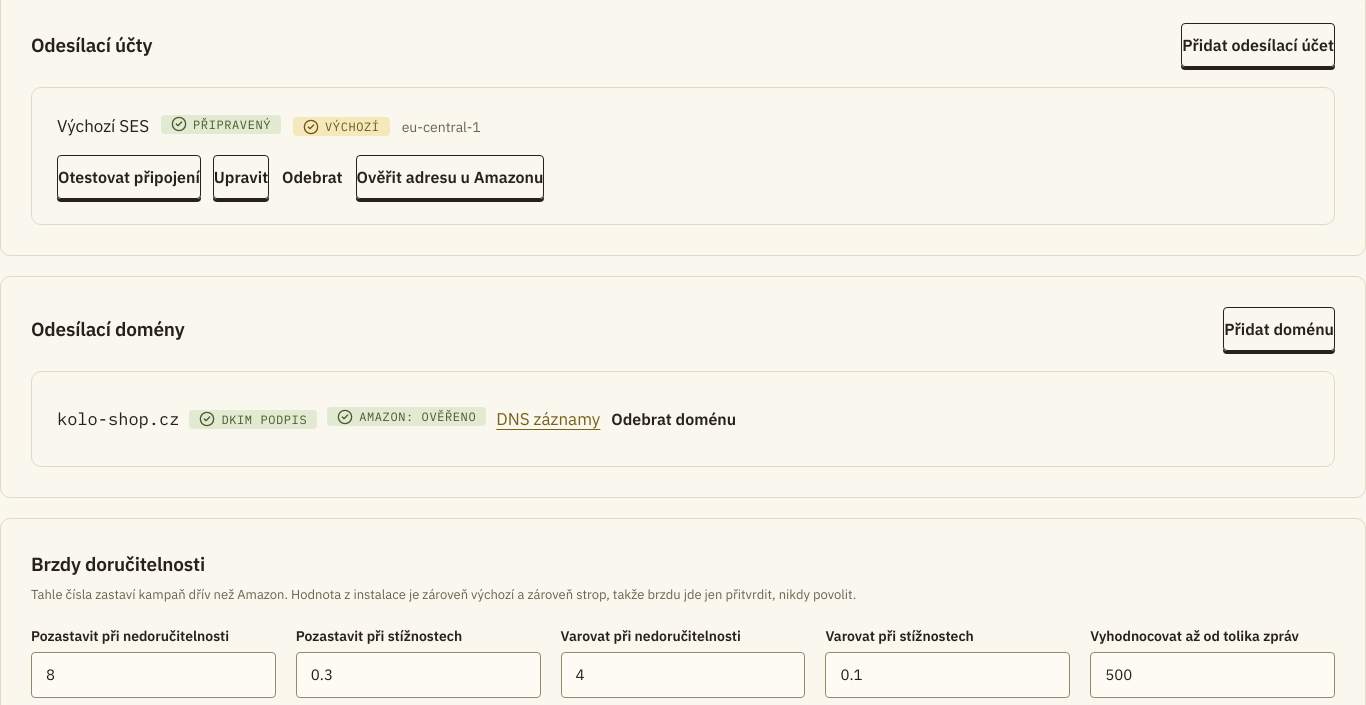
Test case: odebrání odesílací domény ze seznamu › úspěch zavře dialog a obnoví seznam, aby z něj doména zmizela
Click the button with test id "delete-domain-dom-1" at (674, 419), box [610,397,737,441]
(page scrolled)
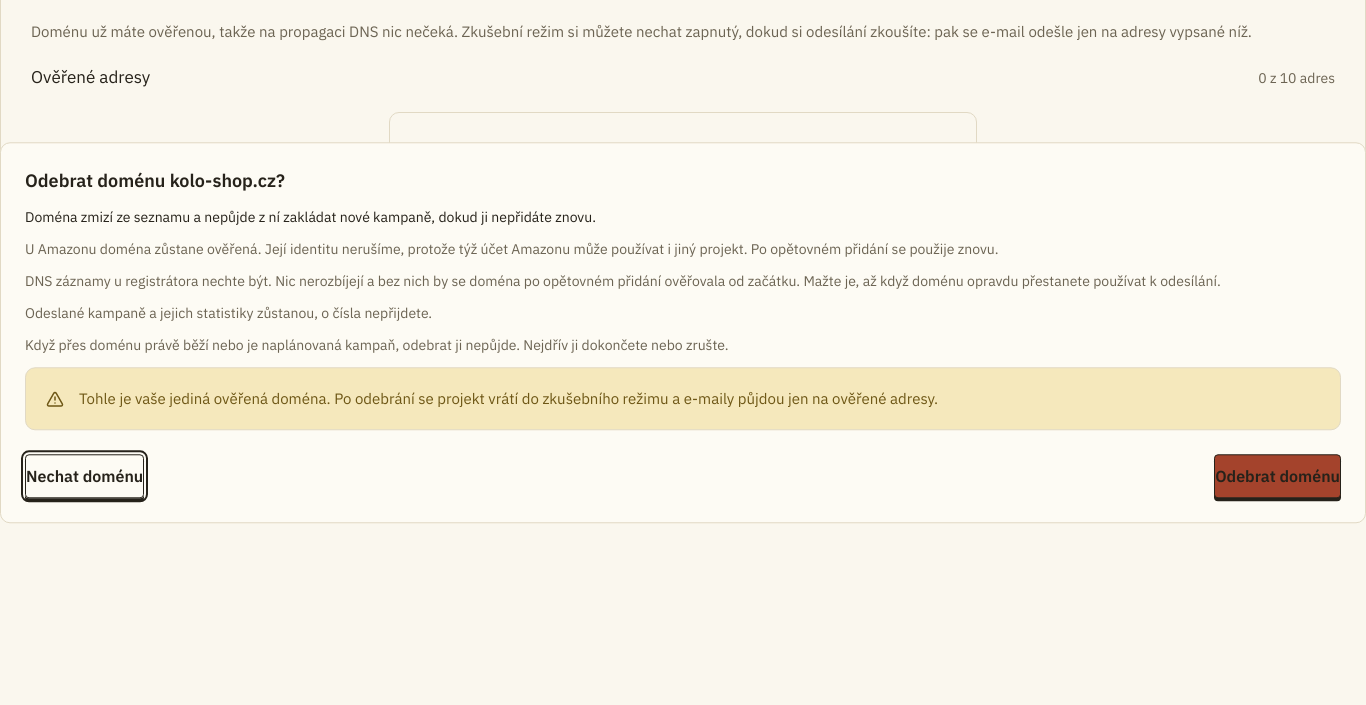
Click the button with test id "delete-domain-submit" at (1278, 476), box [1214,454,1341,498]
(page scrolled)
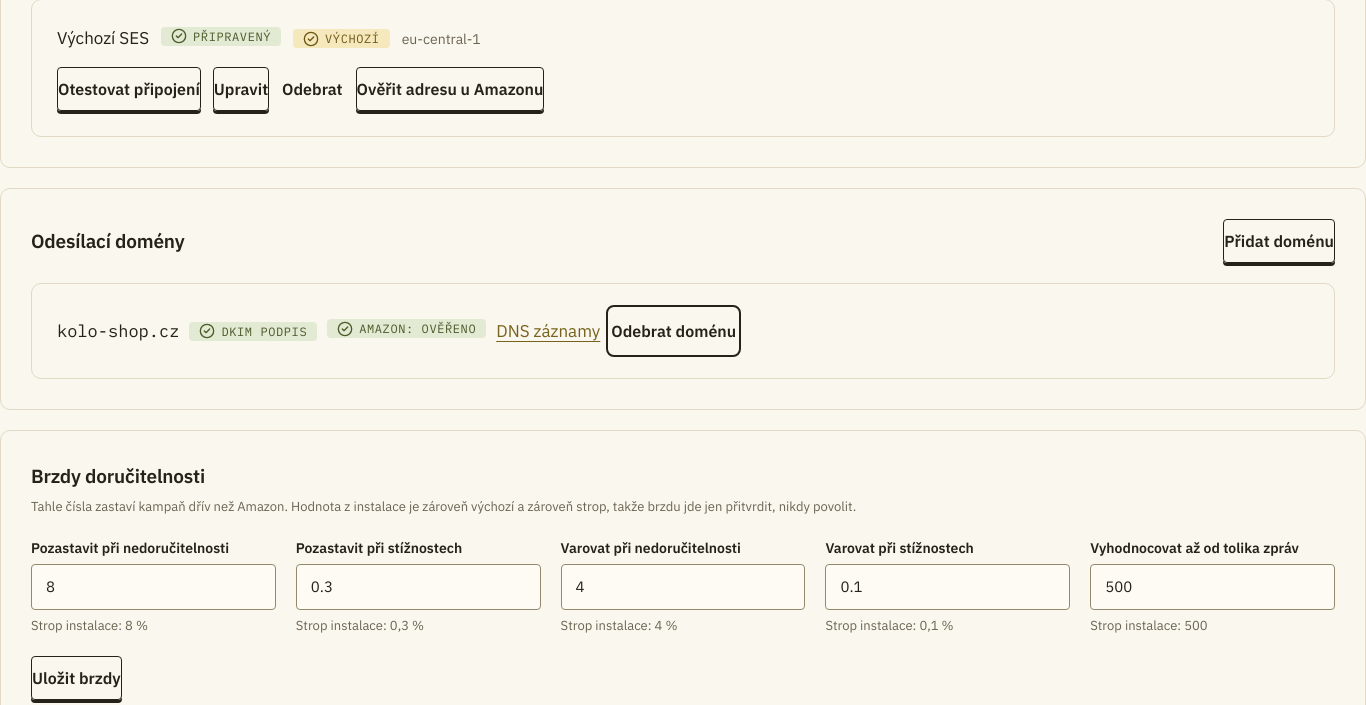
expect the heading "Odebrat doménu kolo-shop.cz?" is gone: met
